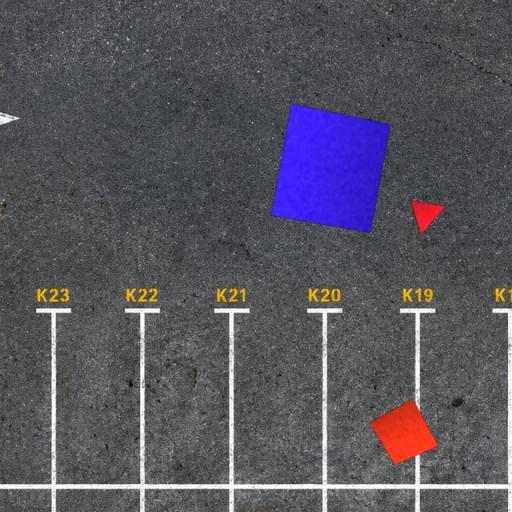BLUE_SQUARE: (270, 103, 392, 234)
RED_SQUARE: (369, 398, 439, 466)
